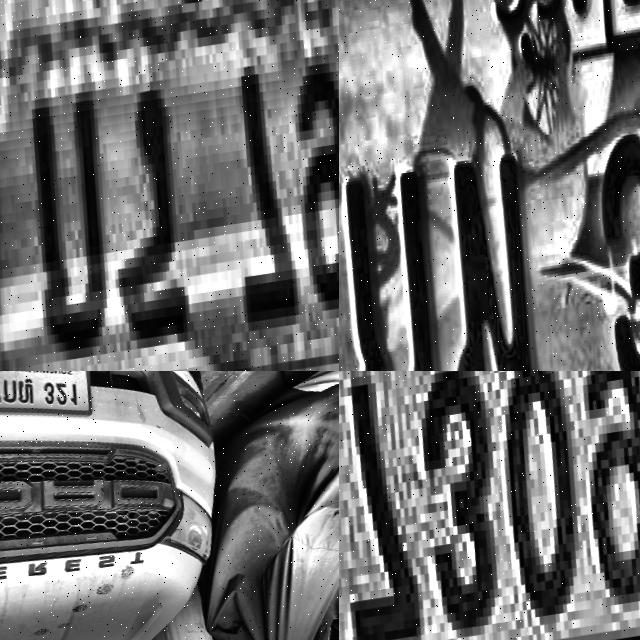license-plate: (0, 0, 339, 371), (339, 0, 640, 371), (339, 371, 640, 640), (0, 371, 108, 433)
